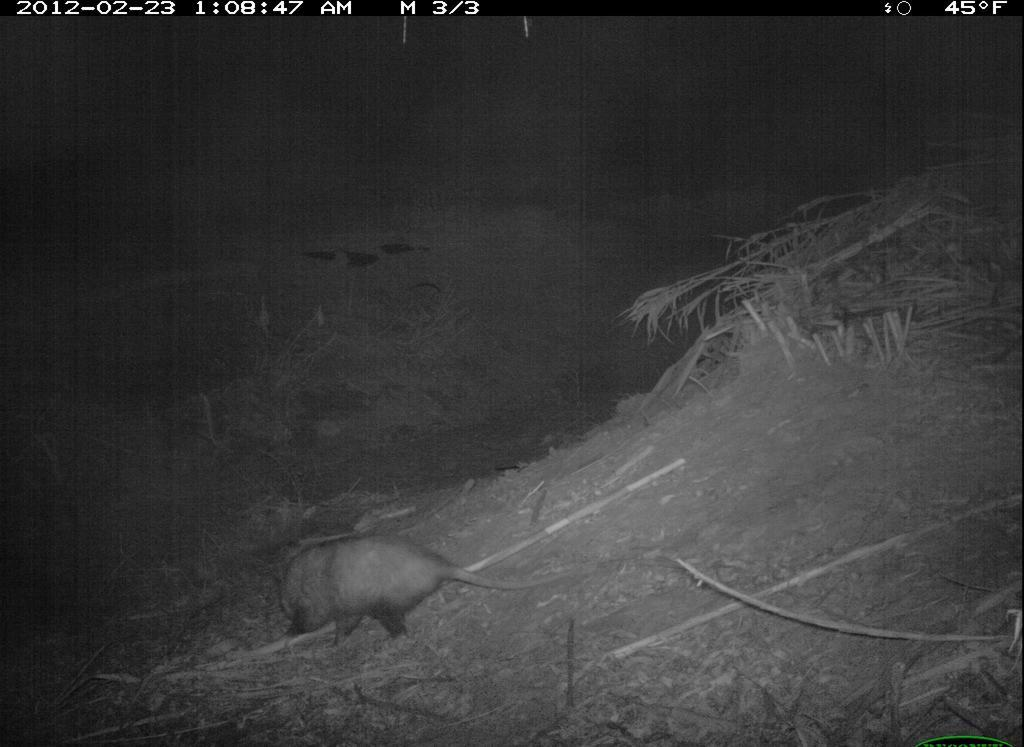opossum: (268, 524, 565, 662)
